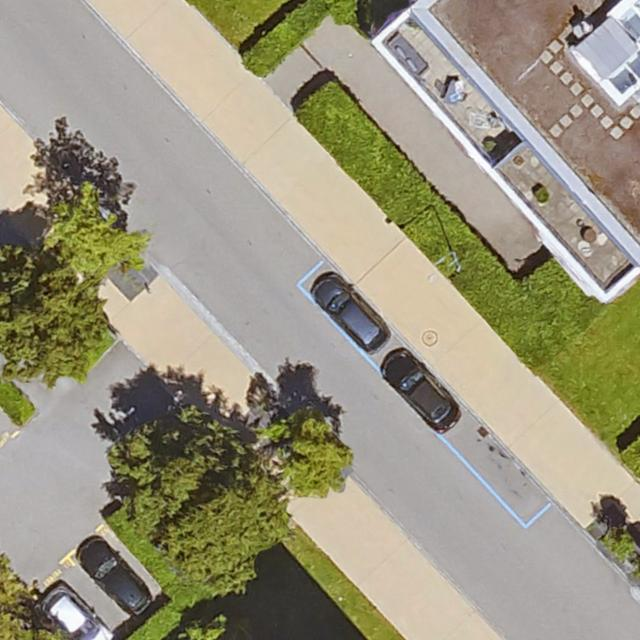tree: (112, 420, 294, 591), (0, 250, 103, 384), (40, 180, 148, 280), (268, 413, 353, 498), (174, 618, 230, 640)
